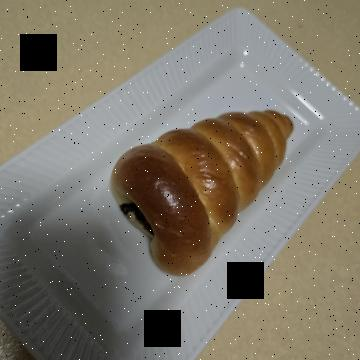cream horn: (70, 49, 301, 262)
